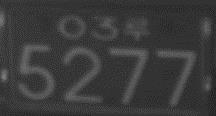0: (56, 13, 86, 40)
2: (61, 45, 103, 105)
3: (90, 13, 118, 40)
5: (17, 43, 55, 101)
7: (155, 48, 198, 108), (108, 46, 149, 103)
우: (123, 14, 152, 41)
